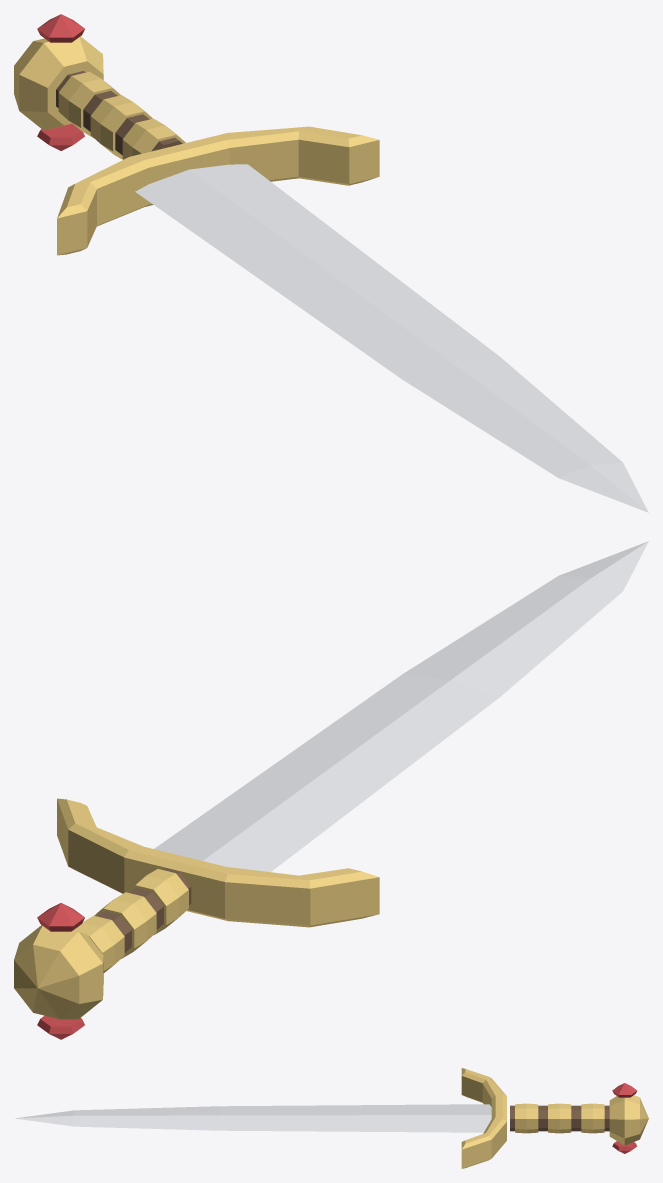
Rendered from gildedblade.glb.
The picture shows the model from 3 angles, top to bottom: view 1: azimuth 30°, elevation 25°; view 2: azimuth 150°, elevation 25°; view 3: azimuth 270°, elevation 25°; orthographic projection. The views are drawn at different scales.
Parts seen in each view (by area): view 1: gildedblade; view 2: gildedblade; view 3: gildedblade.
Boxes of the visible parts, x1,y1,x2,y2 form: gildedblade: (14,14,648,512); gildedblade: (14,541,648,1039); gildedblade: (14,1068,648,1168).
Size of the model in its own units: 0.32 by 0.13 by 1.05.
